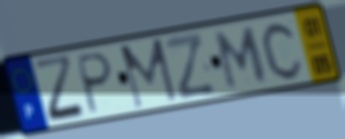C: (259, 19, 306, 82)
M: (117, 36, 180, 112), (214, 24, 270, 92)
P: (76, 50, 115, 118)
Z: (31, 52, 90, 125), (162, 30, 218, 103)
